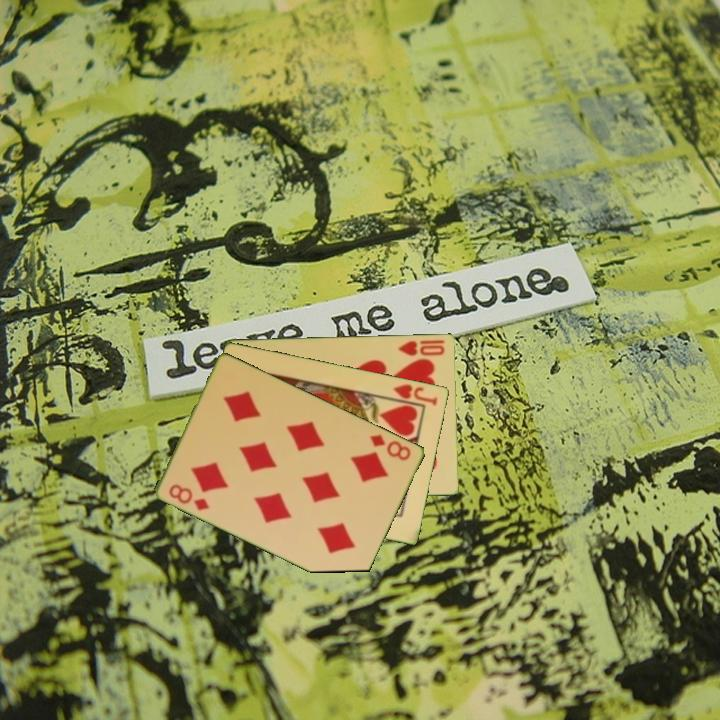10h: (395, 336, 448, 358)
8d: (165, 480, 212, 513), (367, 431, 414, 463)
Jh: (389, 380, 441, 408)
